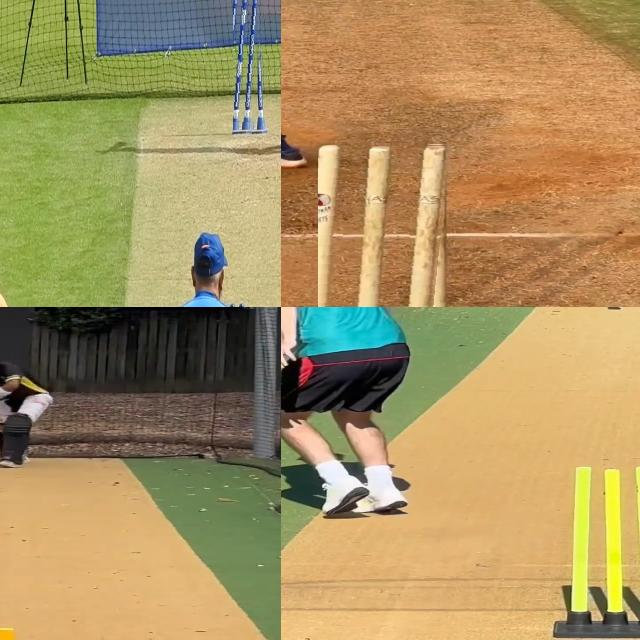Stumps: (317, 143, 450, 307), (563, 462, 640, 640), (233, 0, 267, 135)
